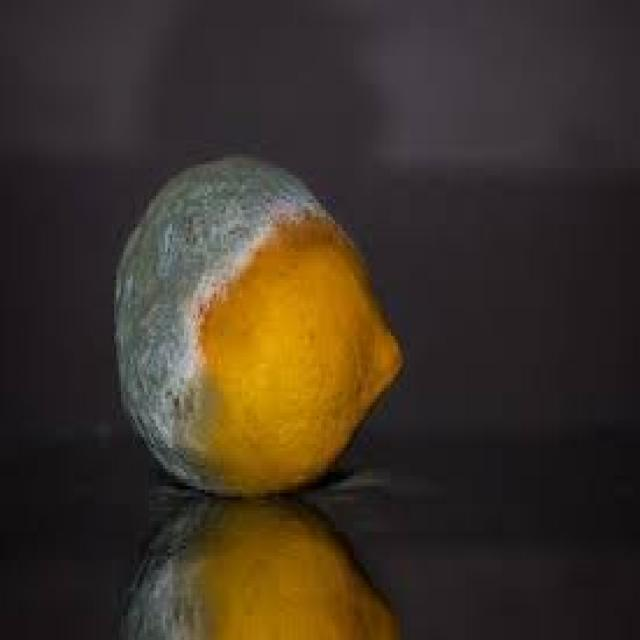organic waste: (111, 150, 402, 500), (117, 493, 400, 637)
